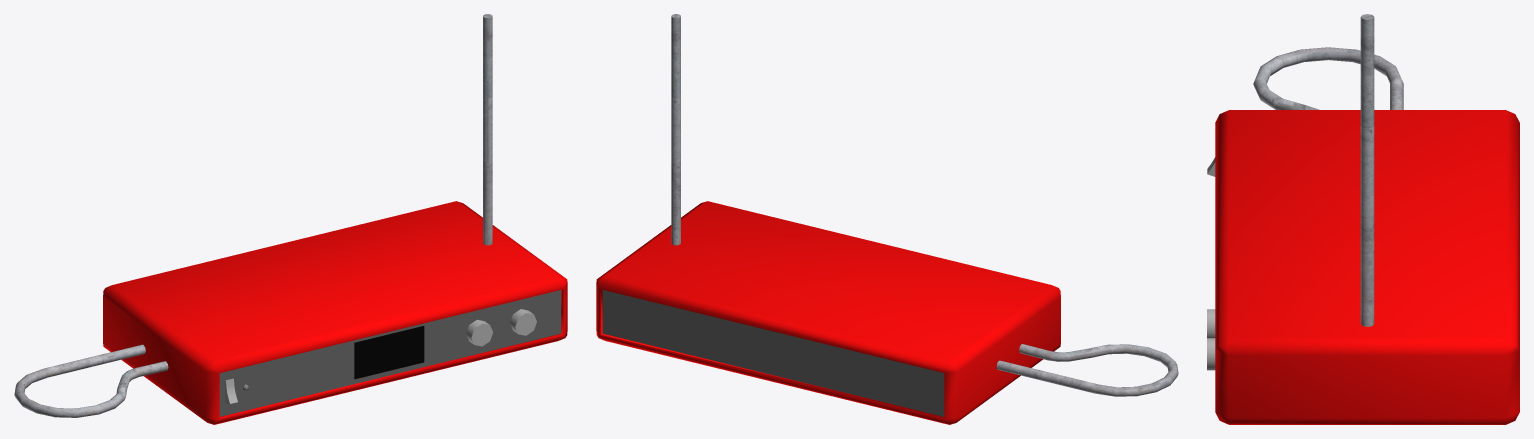
Rendered from theremin-v1.glb.
3 views of the same model, side by side, from view 1: azimuth 30°, elevation 25°; view 2: azimuth 150°, elevation 25°; view 3: azimuth 270°, elevation 25° (orthographic). The views are drawn at different scales.
Visible parts, largest first — view 1: ThereminBody_10, EmptyScreen_11; view 2: ThereminBody_10; view 3: ThereminBody_10.
Part boxes in pixels (x1,y1,x2,y2): ThereminBody_10: [14, 14, 567, 424]; EmptyScreen_11: [354, 326, 424, 379]; ThereminBody_10: [596, 14, 1178, 424]; ThereminBody_10: [1207, 14, 1519, 424].
Bounding box in the file's own units: 0.4651 × 0.2549 × 0.1829.
6 materials, 2 textured.
